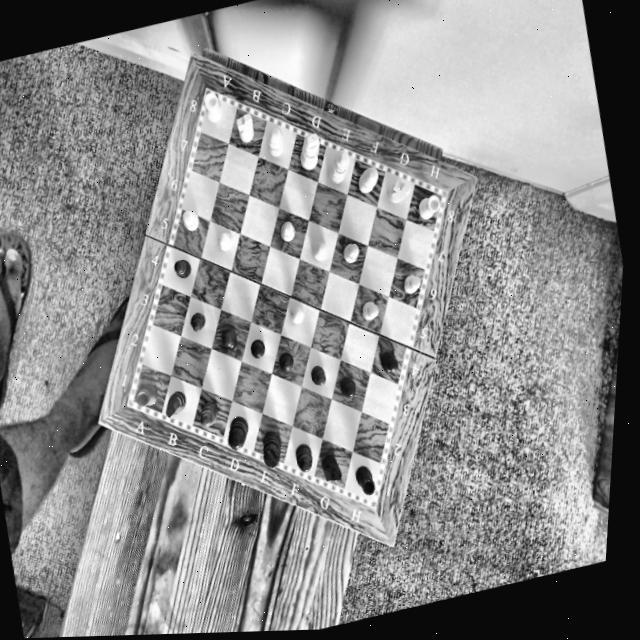black-bishop: (190, 394, 224, 433), (288, 436, 317, 477)
black-king: (252, 425, 288, 471)
black-knight: (313, 443, 346, 488), (159, 384, 190, 424)
black-pawn: (373, 344, 404, 378), (332, 367, 360, 402), (164, 252, 195, 283), (182, 305, 211, 336), (303, 359, 331, 390), (242, 333, 268, 362), (215, 324, 239, 350), (273, 348, 295, 375)
black-queen: (216, 409, 256, 453)
black-rook: (347, 460, 381, 499), (130, 378, 162, 414)
white-bishop: (351, 158, 384, 199), (259, 123, 288, 163)
white-king: (291, 128, 326, 175)
white-knight: (229, 106, 259, 149), (381, 174, 413, 207)
white-pawn: (175, 205, 204, 238), (394, 268, 423, 297), (355, 294, 382, 325), (336, 238, 363, 267), (274, 216, 299, 245), (211, 226, 236, 254), (305, 237, 330, 264)
white-queen: (320, 144, 355, 189)
white-rook: (196, 86, 227, 127), (411, 188, 445, 221)
